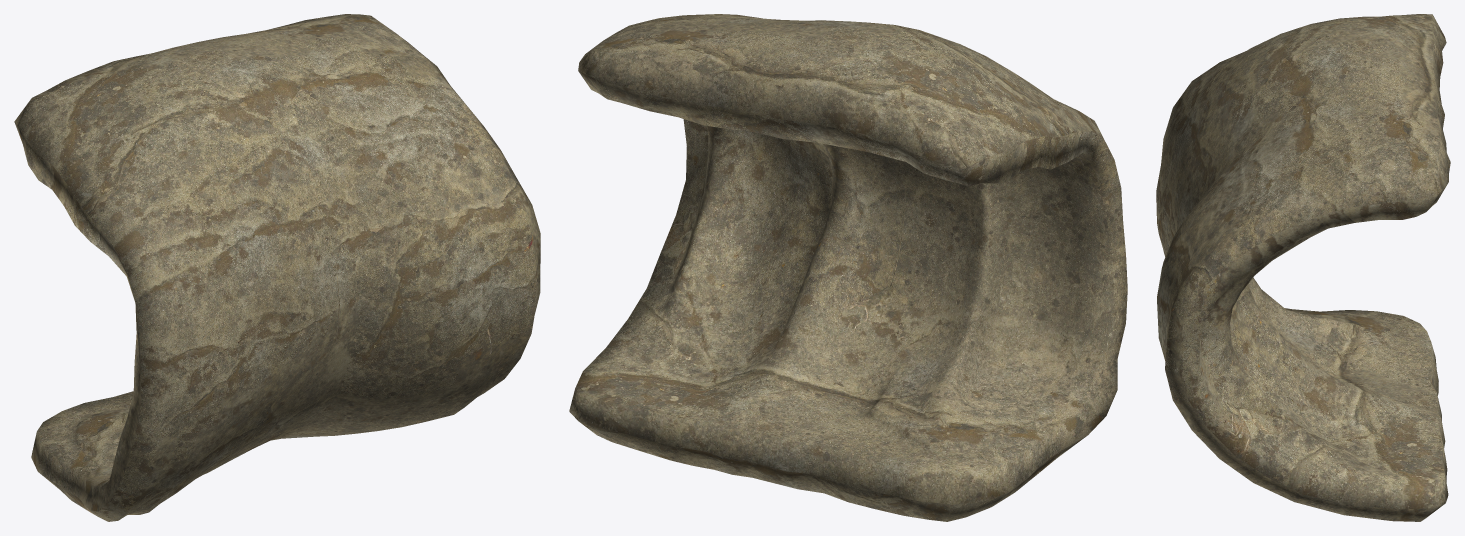
The model's file is saltmine_side_01.dae.
3 views of the same model, side by side, from view 1: azimuth 30°, elevation 25°; view 2: azimuth 150°, elevation 25°; view 3: azimuth 270°, elevation 25° (orthographic). The views are drawn at different scales.
Visible parts, largest first — view 1: side_ribbed_tufas; view 2: side_ribbed_tufas; view 3: side_ribbed_tufas.
Boxes of the visible parts, x1,y1,x2,y2 form: side_ribbed_tufas: [14, 14, 540, 521]; side_ribbed_tufas: [569, 14, 1127, 521]; side_ribbed_tufas: [1156, 14, 1450, 521].
Size of the model in its own units: 9.36 by 8.88 by 5.97.
